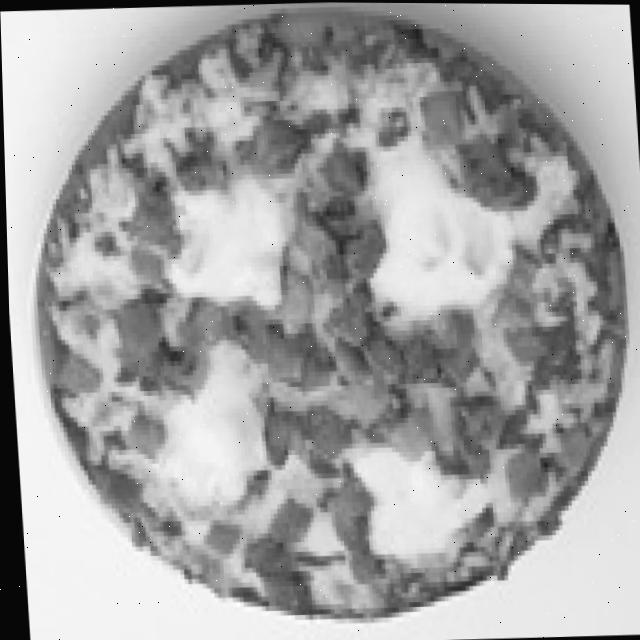汉堡快餐: (11, 15, 640, 634)
